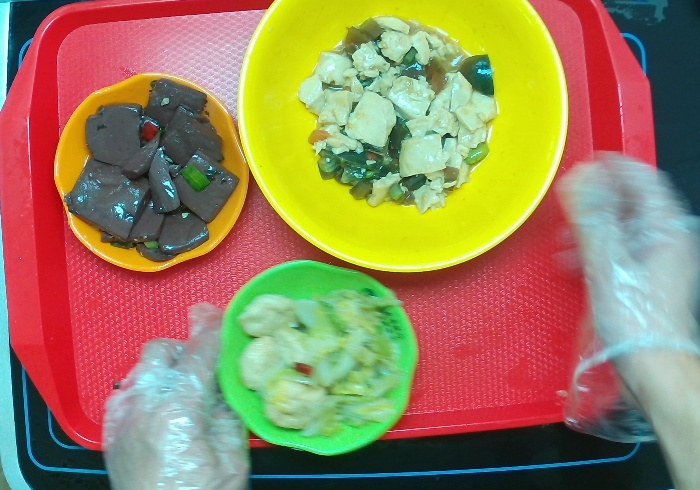YKMZ-Huang_Se_Tang_Wan: (228, 1, 580, 283)
YKMZ-Ju_Se_Ao_Bian_Wan: (46, 62, 258, 282)
YKMZ-Lv_Se_Ao_Bian_Wan: (197, 249, 428, 467)
